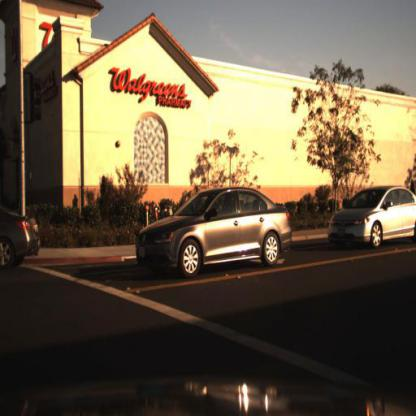car: (142, 185, 295, 286), (332, 175, 416, 250), (326, 187, 416, 249), (1, 205, 40, 278)
